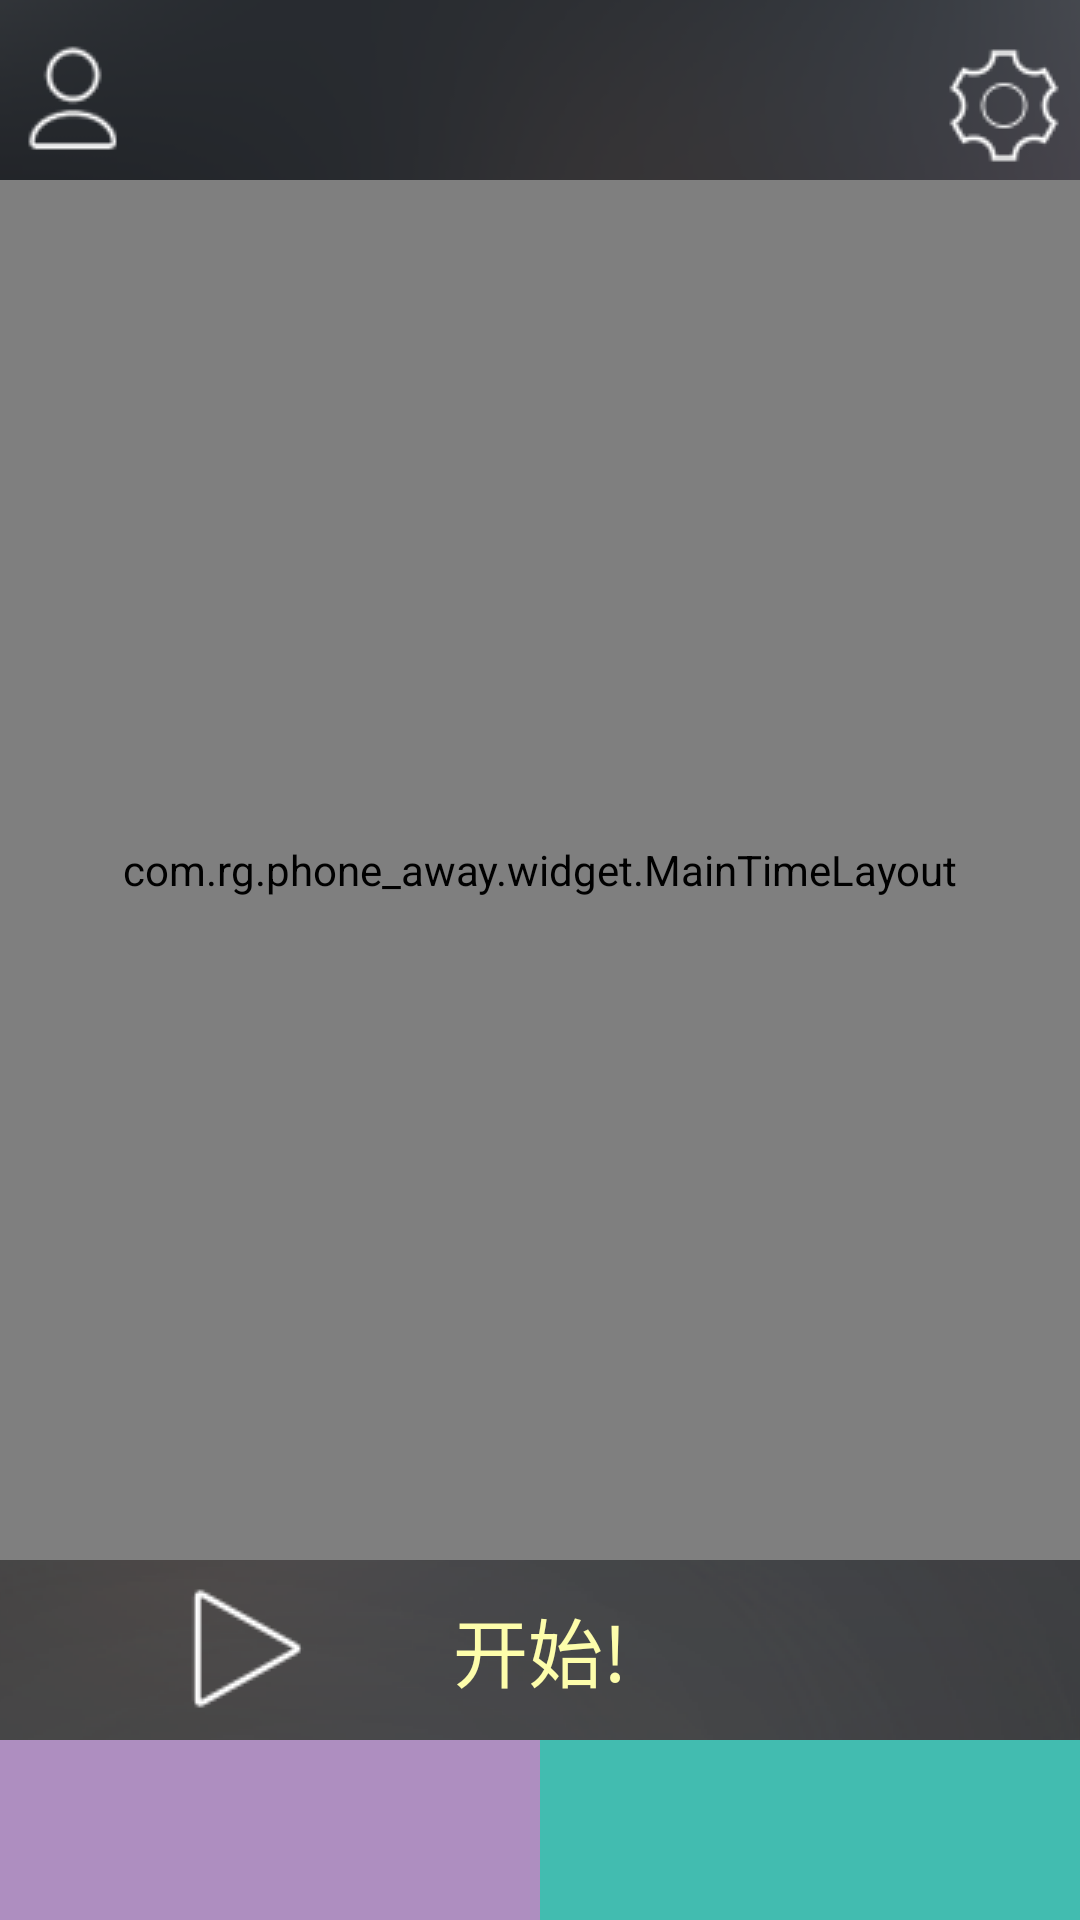

Named icons in this screenshot (1080px x 1920px) and their centers, (x=x, y=y):
set: (x=1004, y=105)
user detail: (x=72, y=98)
